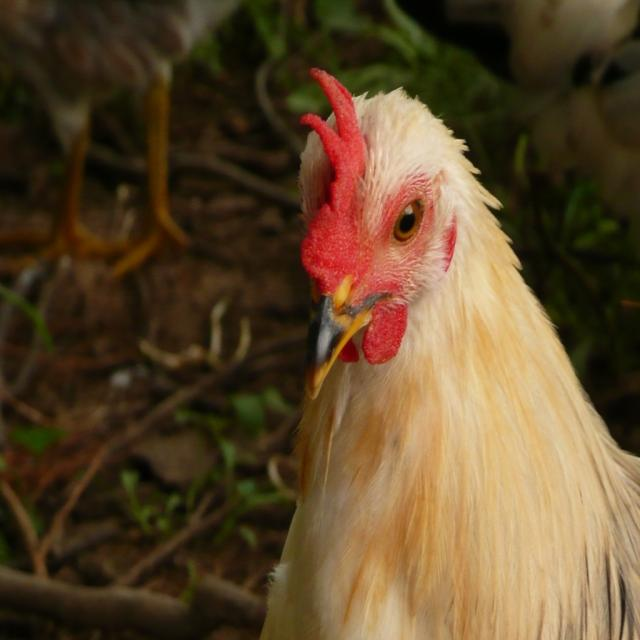Chicken: (258, 68, 640, 639)
